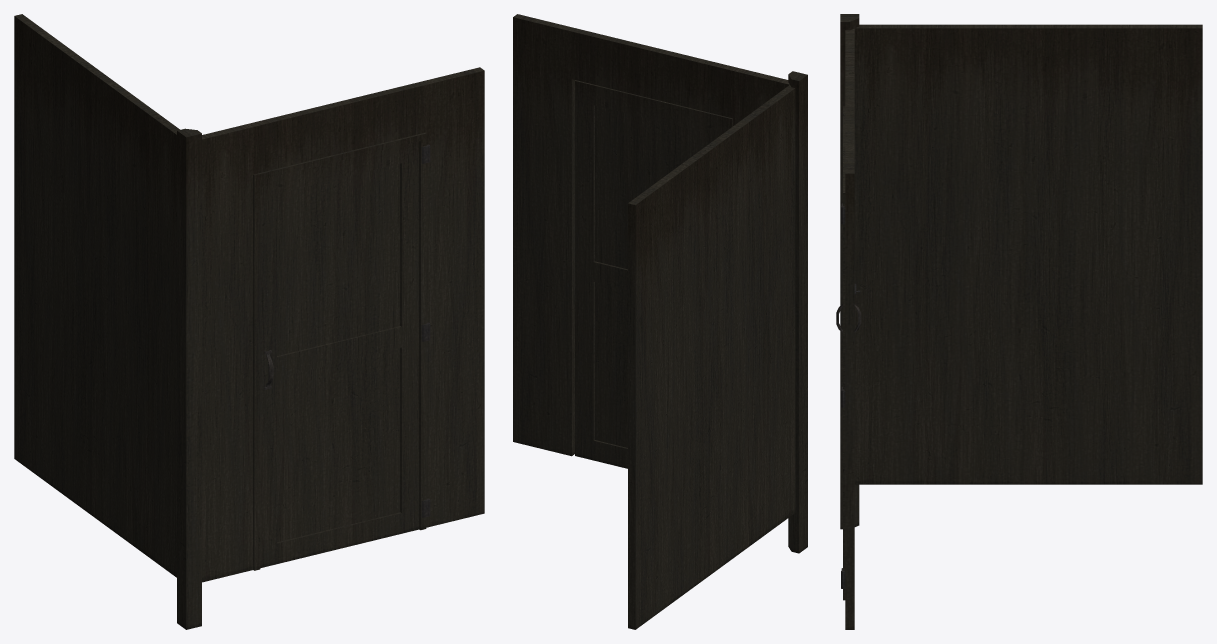
File: toilet_cabin_mp_1.obj
3 renders of one model, left to right at view 1: azimuth 30°, elevation 25°; view 2: azimuth 150°, elevation 25°; view 3: azimuth 270°, elevation 25°, orthographic. The views are drawn at different scales.
Parts seen in each view (by area): view 1: toilet_cabin_mp_1, toilet_cabin_mp_1_door; view 2: toilet_cabin_mp_1, toilet_cabin_mp_1_door; view 3: toilet_cabin_mp_1, toilet_cabin_mp_1_door.
Boxes of the visible parts, box(x1,y1,x2,y2) form: toilet_cabin_mp_1: box(14, 14, 484, 629); toilet_cabin_mp_1_door: box(253, 132, 430, 570); toilet_cabin_mp_1: box(513, 14, 807, 629); toilet_cabin_mp_1_door: box(575, 80, 732, 468); toilet_cabin_mp_1: box(840, 14, 1202, 629); toilet_cabin_mp_1_door: box(836, 106, 861, 600).
Bounding box in the file's own units: 1.52 × 2.38 × 1.56.
